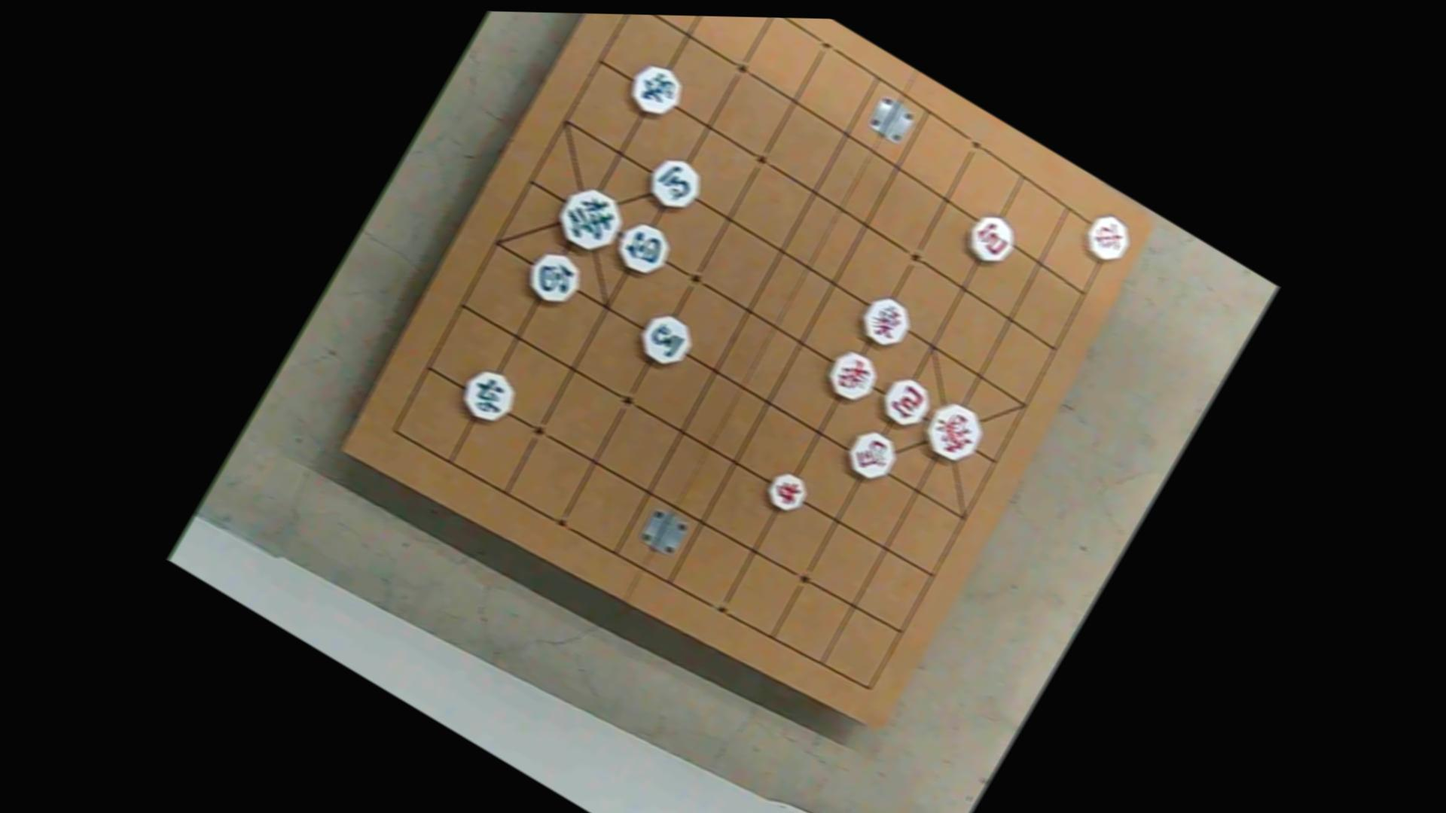cha_green: (455, 361, 522, 428)
cha_red: (1078, 206, 1138, 267)
jol_red: (761, 465, 812, 516)
ma_green: (642, 149, 709, 216), (631, 306, 697, 371)
ma_red: (840, 422, 902, 486)
po_green: (520, 243, 588, 311), (610, 215, 676, 281)
po_red: (961, 207, 1023, 269), (875, 372, 937, 434)
sang_green: (621, 56, 688, 122)
sang_red: (821, 343, 885, 407), (853, 290, 915, 352)
wang_green: (550, 177, 631, 259)
wang_red: (918, 394, 989, 467)
